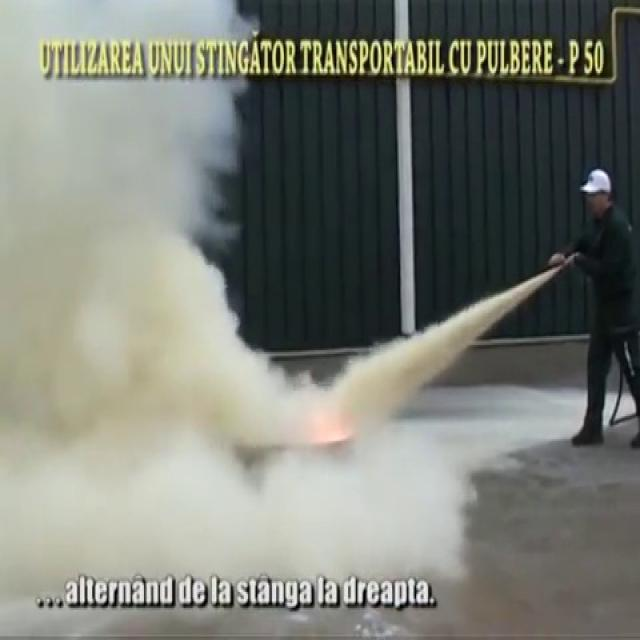Smoke: (0, 1, 363, 636)
